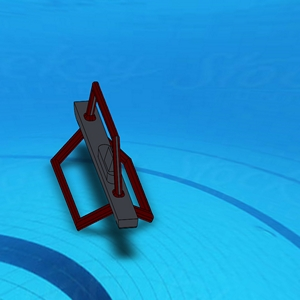submarine: (47, 79, 154, 242)
